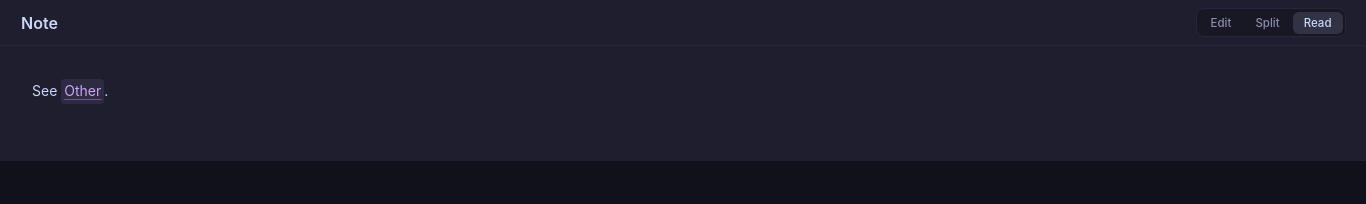
Test case: Editor — [ [link]] hover previews (#425) › shows the linked note's opening text after a short hover
Step 1. Hover over the button "Other" → [83, 91], box [61,79,104,104]
Wait 400 ms
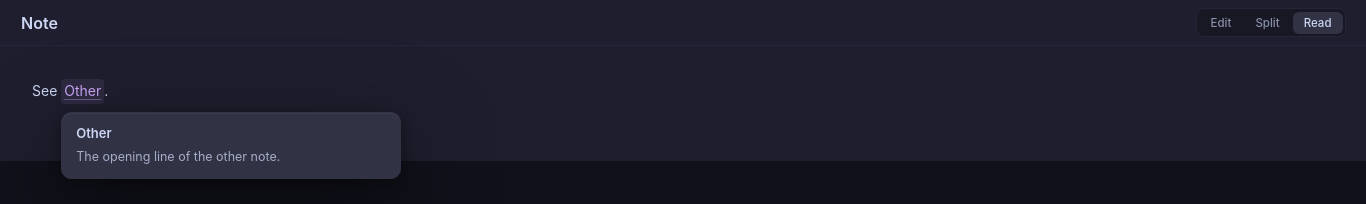
Result: the tooltip shows "Other" at [76,125,112,141]
Result: the tooltip shows "The opening line of the other note." at [76,149,280,164]
Step 2. Move the pointer off the button "Other", box [61,79,104,104]
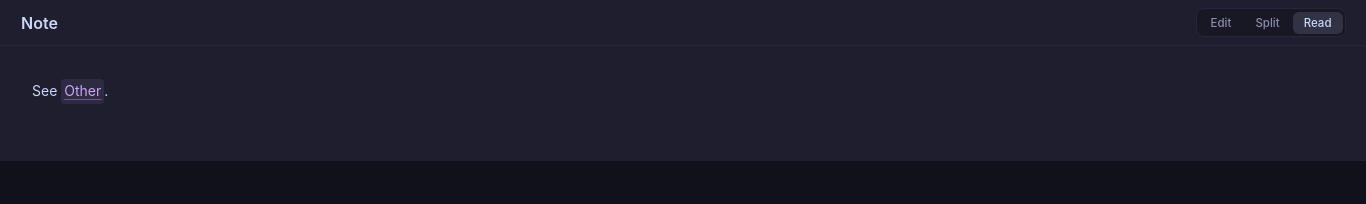
Result: the tooltip "Other The opening line of the other note." is gone
